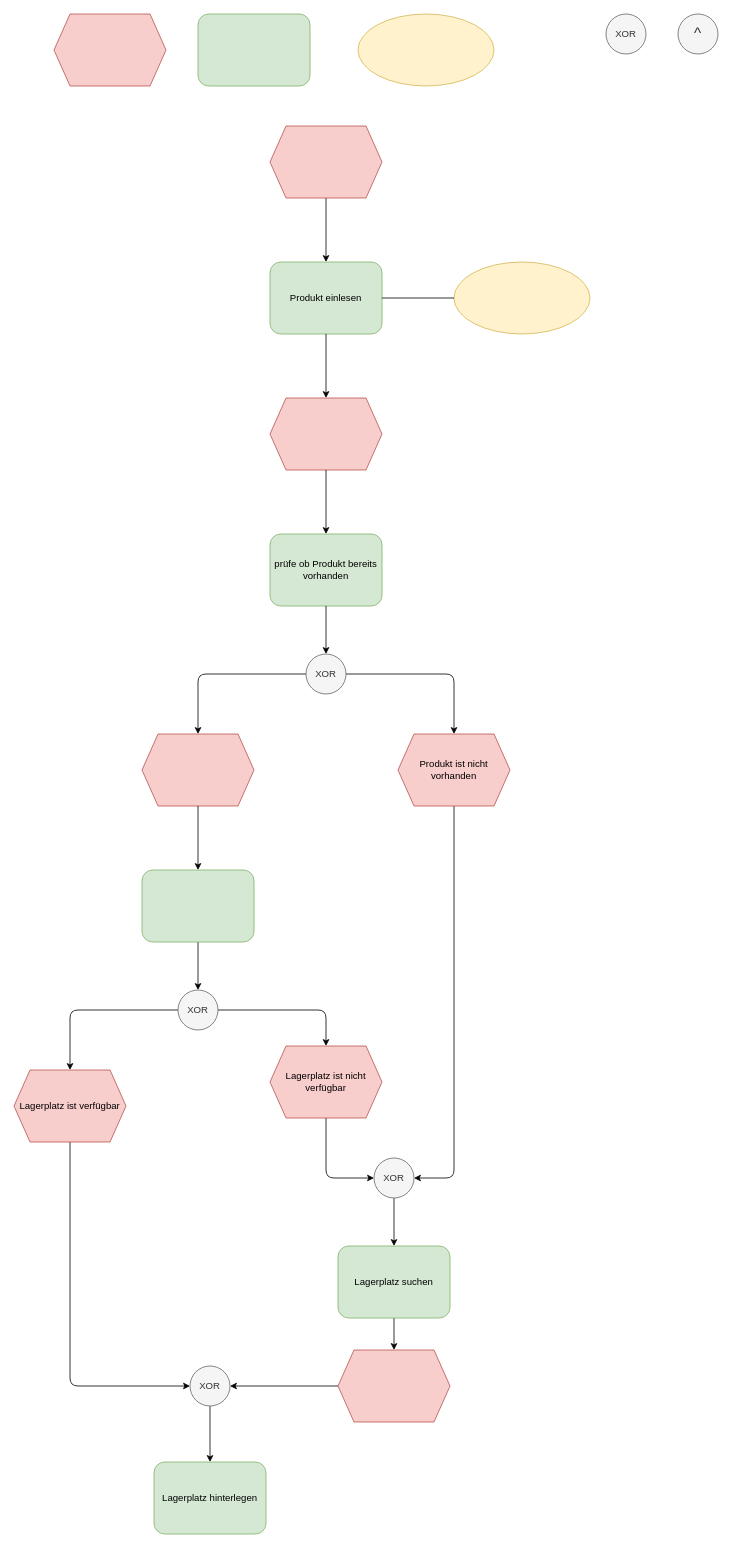
Some shapes in this 732 by 1548 pixel diagram are drawn without their labels. The shapes that lost their labels are listed below. From the top down, each one's centre as x and y in pixels, then its label:
At pixel 325 161: "Neues Produkt kommt ins Lager".
At pixel 521 297: "Stochastiklaser".
At pixel 325 433: "Produkt ist in das Warenwirtschafts-System eingelesen".
At pixel 197 769: "Produkt ist vorhanden".
At pixel 197 905: "Lagerplatzverfügbarkeit prüfen".
At pixel 393 1385: "Neuen verfügbaren Lagerplatz gefunden".
